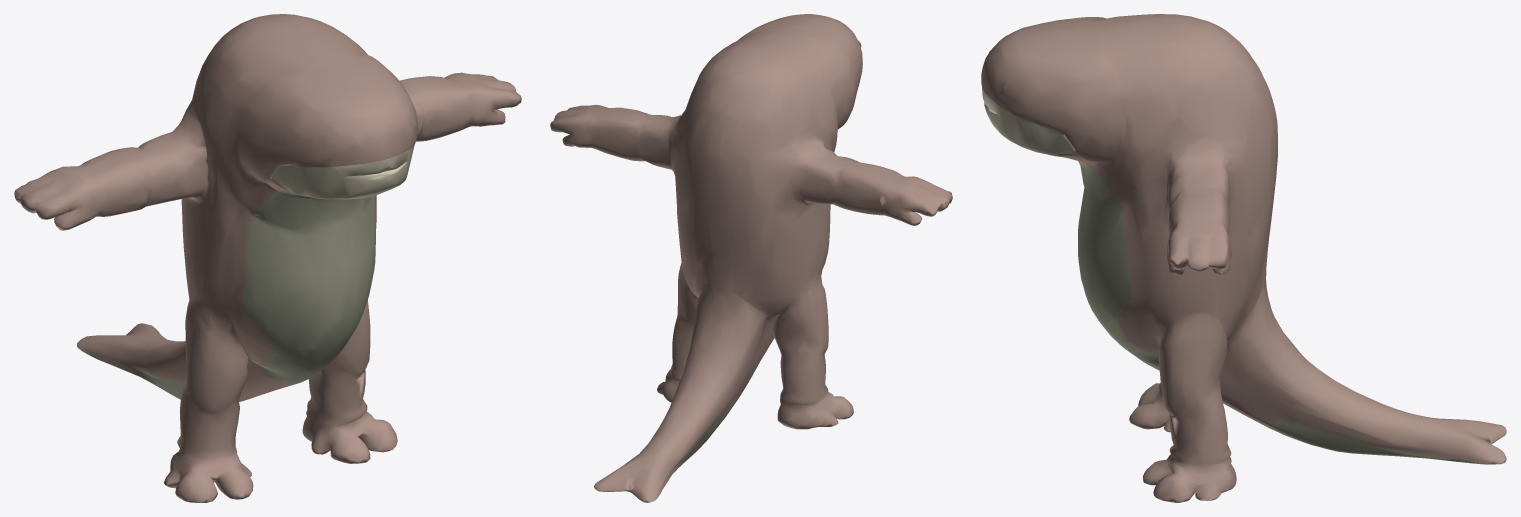
Rendered from prowler.glb.
3 renders of one model, left to right at view 1: azimuth 30°, elevation 25°; view 2: azimuth 150°, elevation 25°; view 3: azimuth 270°, elevation 25°, orthographic. The views are drawn at different scales.
Visible parts, largest first — view 1: prowler tripo body; view 2: prowler tripo body; view 3: prowler tripo body.
Boxes of the visible parts, x1,y1,x2,y2 form: prowler tripo body: [14, 14, 521, 502]; prowler tripo body: [550, 14, 952, 502]; prowler tripo body: [981, 14, 1506, 502].
Bounding box in the file's own units: 2.21 × 1.9 × 2.11.
